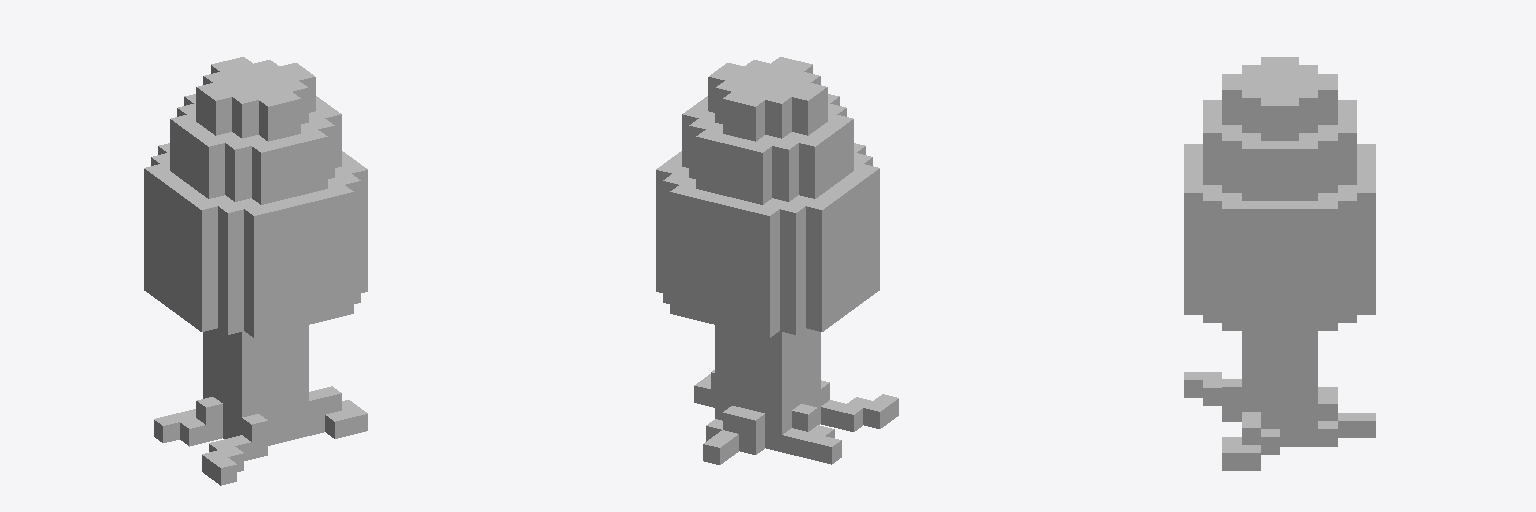
File: Tree.obj
The picture shows the model from 3 angles: view 1: azimuth 30°, elevation 25°; view 2: azimuth 150°, elevation 25°; view 3: azimuth 270°, elevation 25°; orthographic projection.
Size of the model in its own units: 10 by 20 by 10.